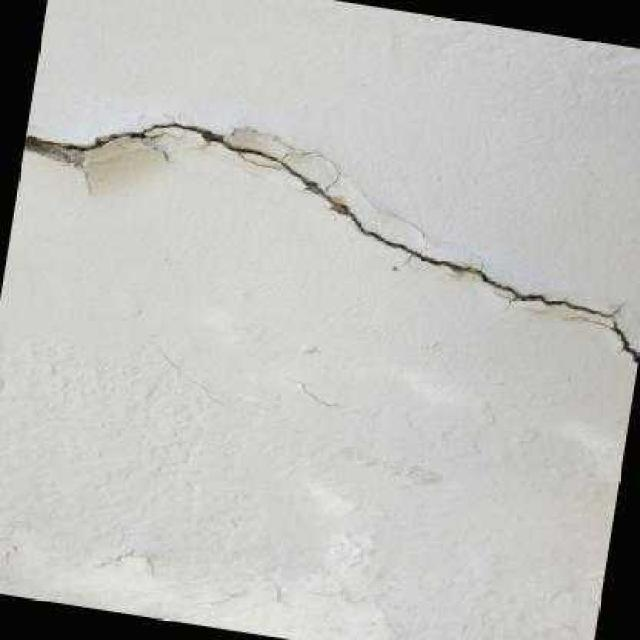D00: (23, 119, 639, 365)
